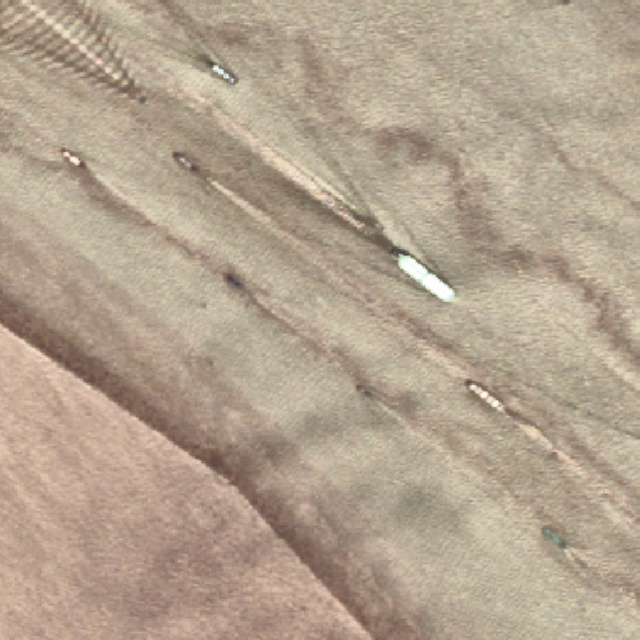wake: (42, 5, 170, 124)
